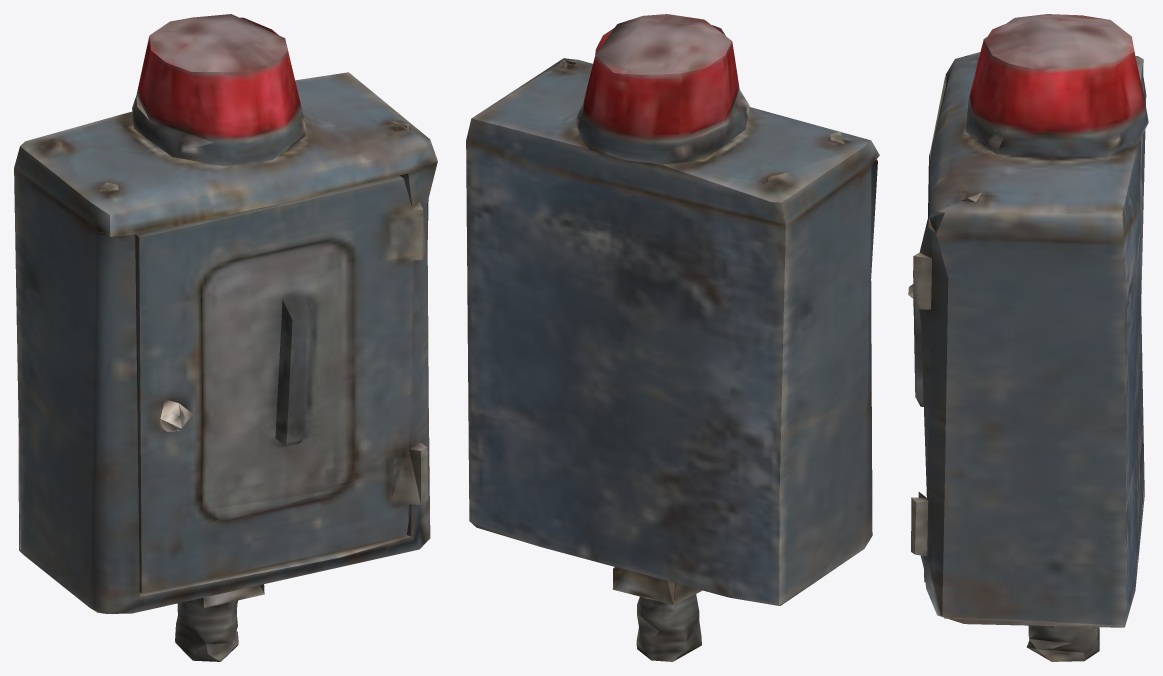
File: p7-field-phone-box.glb
3 renders of one model, left to right at view 1: azimuth 30°, elevation 25°; view 2: azimuth 150°, elevation 25°; view 3: azimuth 270°, elevation 25°, orthographic. The views are drawn at different scales.
Parts seen in each view (by area): view 1: p7-field-phone-box; view 2: p7-field-phone-box; view 3: p7-field-phone-box.
Boxes of the visible parts, x1=… form: p7-field-phone-box: x1=14, y1=14, x2=437, y2=661; p7-field-phone-box: x1=466, y1=14, x2=879, y2=661; p7-field-phone-box: x1=908, y1=14, x2=1148, y2=661.
Bounding box in the file's own units: 0.284 × 0.5 × 0.1738.
Materials: 1 (1 with a texture image).
